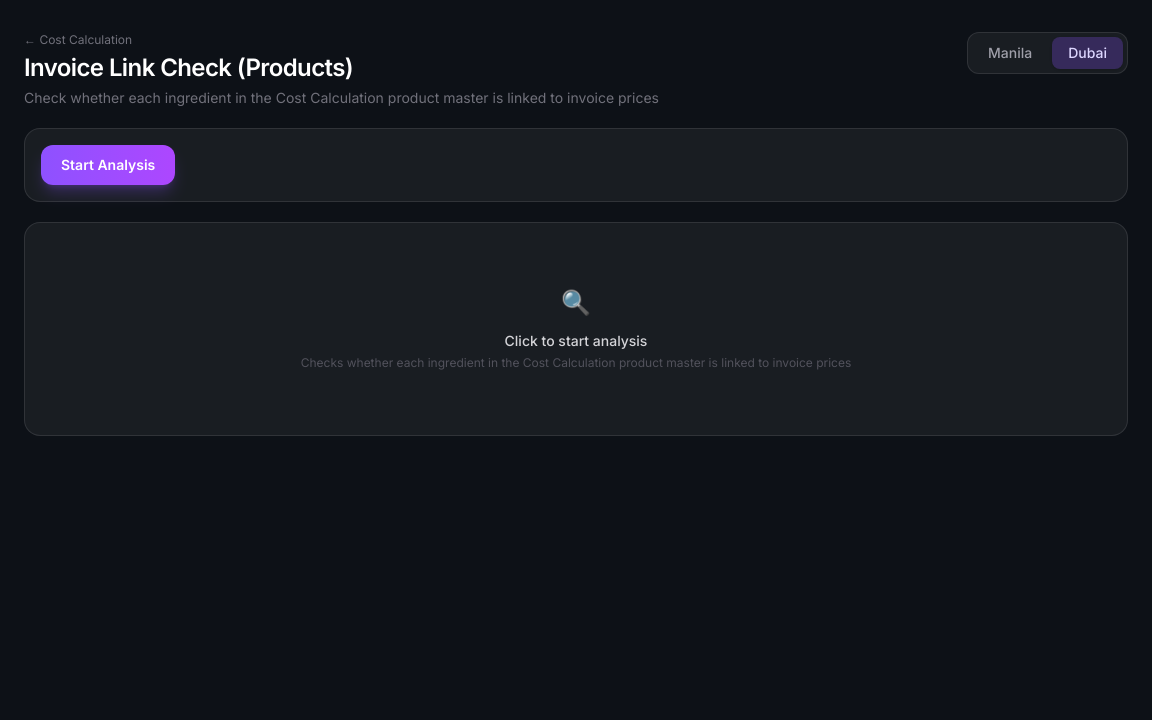
Scenario: CostCheckPage — ingredient panel and navigation › expands ingredient panel when product row is clicked
This screenshot has width=1152, height=720.
Expected: the heading "Invoice Link Check (Products)" is shown, [24,53,353,82]
Click the button "Start Analysis" at [108, 165], box [41,145,175,185]
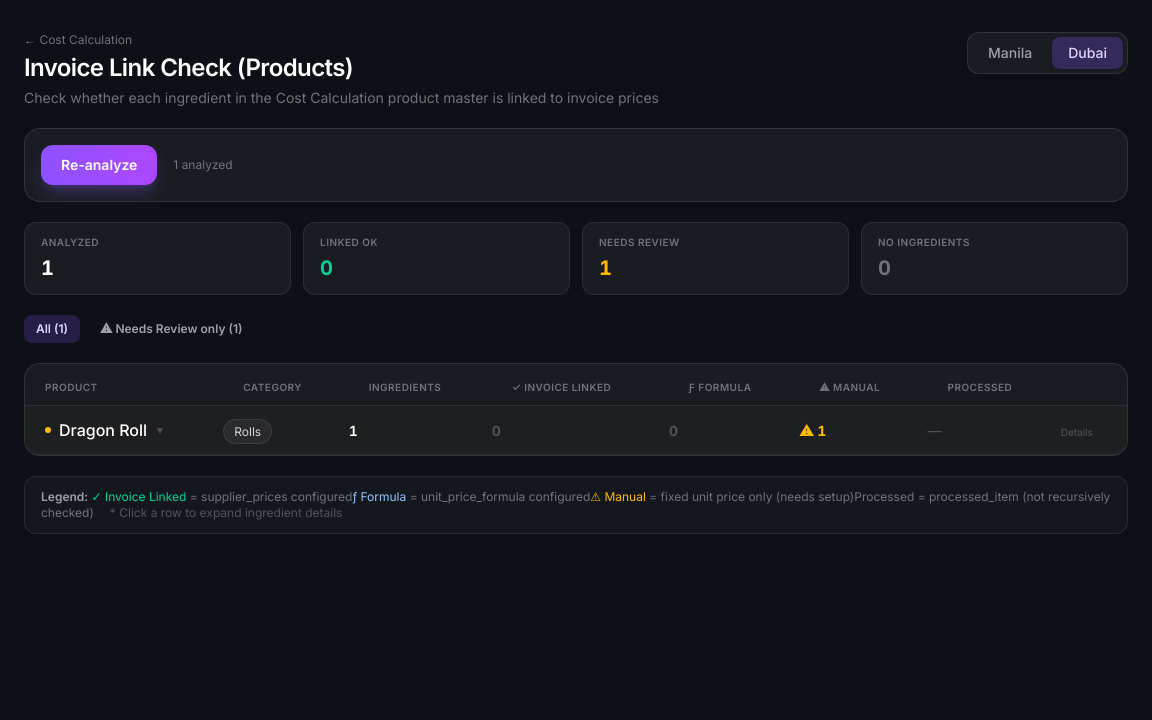
Now the text "Details" is shown, box [1061,426,1093,438]
// Click the product row to expand
Click the text "Dragon Roll" at [103, 430], box [59,418,147,442]
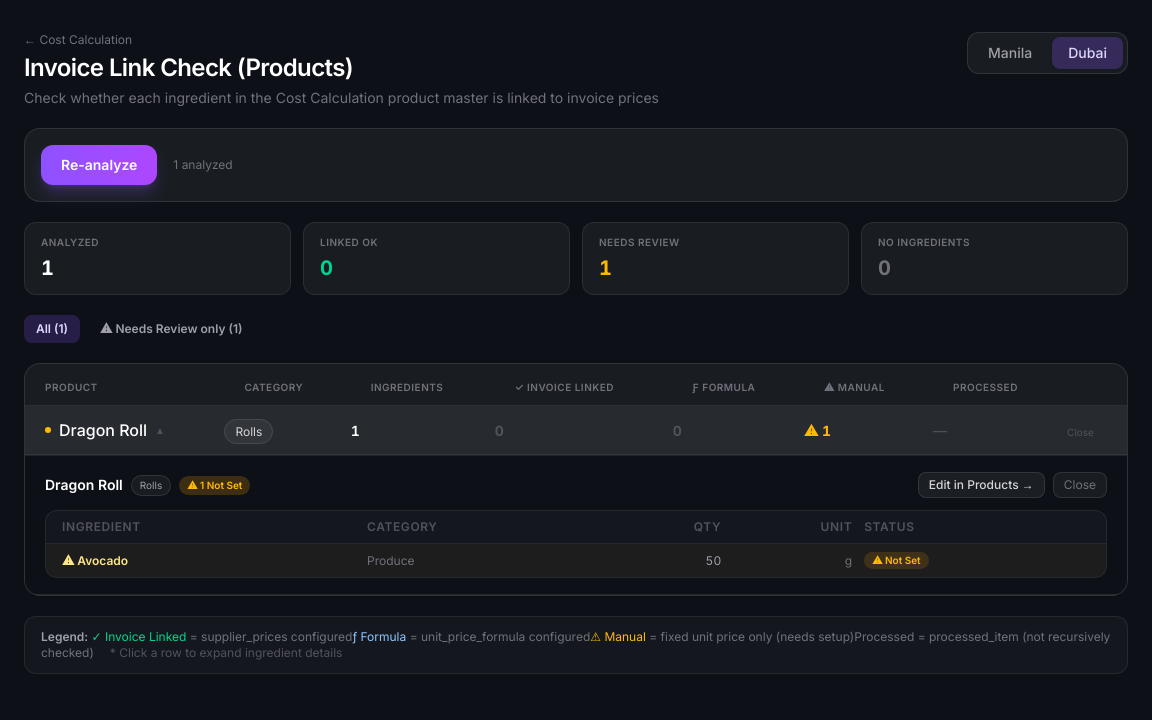
Now the text "⚠ Avocado" is shown, box [62,553,128,568]
